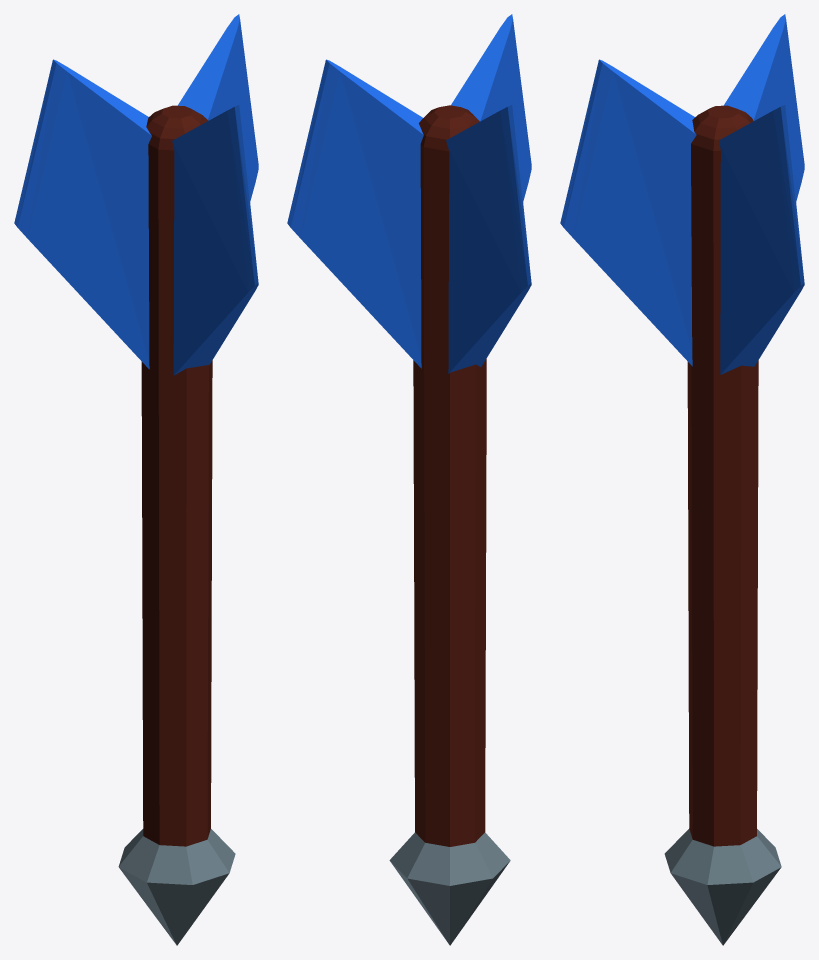
File: arrow_teamBlue.obj
3 views of the same model, side by side, from view 1: azimuth 30°, elevation 25°; view 2: azimuth 150°, elevation 25°; view 3: azimuth 270°, elevation 25° (orthographic).
Parts seen in each view (by area): view 1: arrow_teamBlue_Cylinder.045; view 2: arrow_teamBlue_Cylinder.045; view 3: arrow_teamBlue_Cylinder.045.
Boxes of the visible parts, left/top/right/bottom form: arrow_teamBlue_Cylinder.045: left=14, top=14, right=258, bottom=945; arrow_teamBlue_Cylinder.045: left=287, top=14, right=531, bottom=945; arrow_teamBlue_Cylinder.045: left=560, top=14, right=804, bottom=945.
Bounding box in the file's own units: 0.3565 × 1.24 × 0.309.
